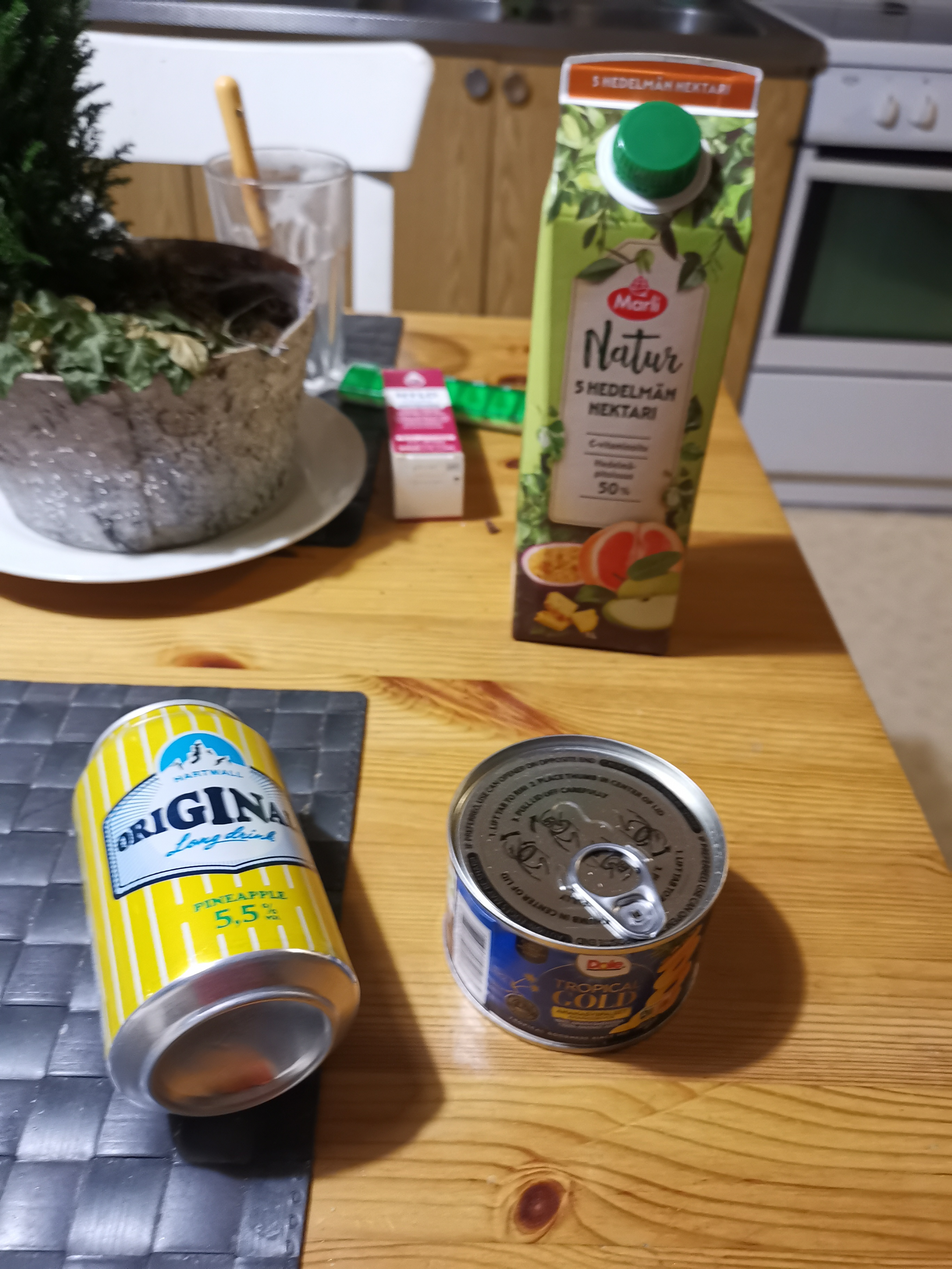Dryckeskartong: (508, 50, 766, 659)
Konservburk: (436, 733, 733, 1059)
Pantburk: (68, 696, 363, 1119)
